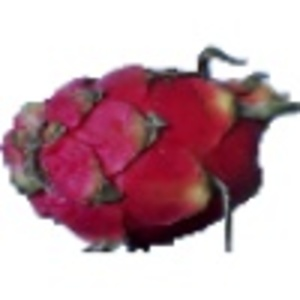pitaia: (1, 45, 300, 255)
